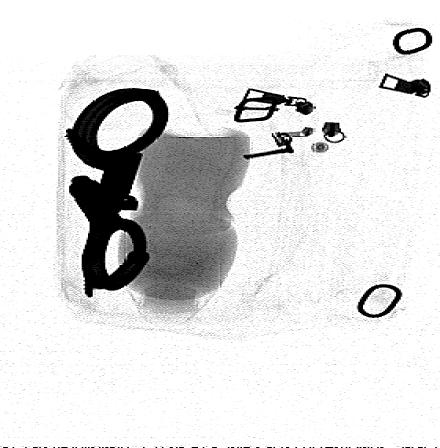HandCuffs: (63, 87, 170, 299)
